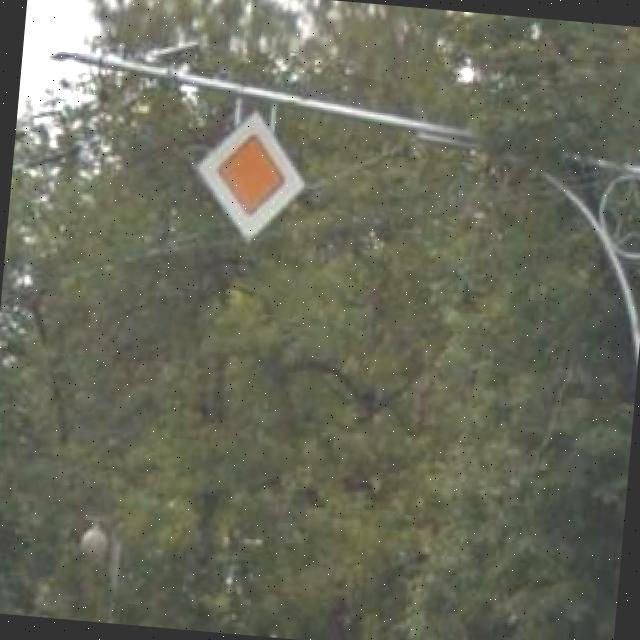Droga z pierwszenstwem: (187, 101, 315, 252)
